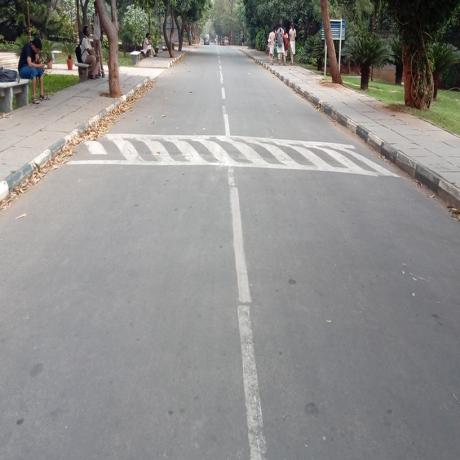Speed Bump: (68, 131, 398, 175)
